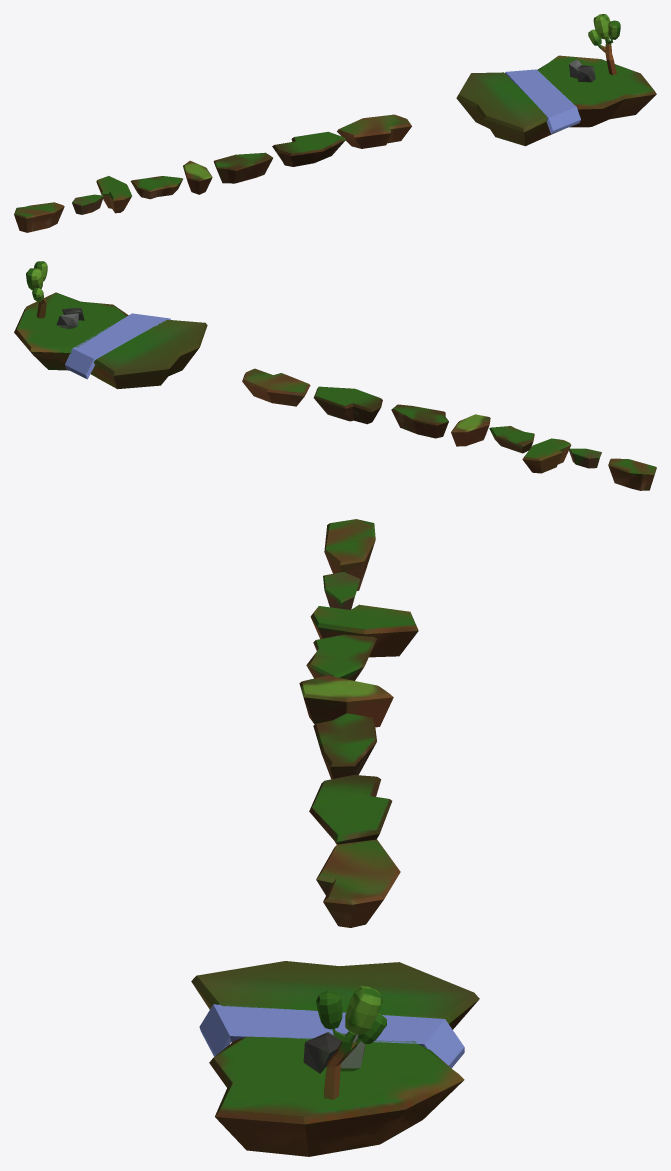
File: floating_island_steps-transformed.glb
3 renders of one model, top to bottom at view 1: azimuth 30°, elevation 25°; view 2: azimuth 150°, elevation 25°; view 3: azimuth 270°, elevation 25°, orthographic. The views are drawn at different scales.
Visible parts, largest first — view 1: Island 1_Material_0; view 2: Island 1_Material_0; view 3: Island 1_Material_0.
Part boxes in pixels (left/top/right/bottom): Island 1_Material_0: left=14, top=14, right=656, bottom=232; Island 1_Material_0: left=14, top=261, right=656, bottom=490; Island 1_Material_0: left=191, top=519, right=479, bottom=1156.
Size of the model in its own units: 57.61 by 7.1 by 11.71.
Materials: 1 (1 with a texture image).
